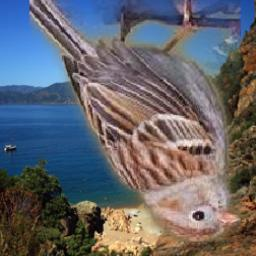Sparrow: (29, 0, 241, 243)
